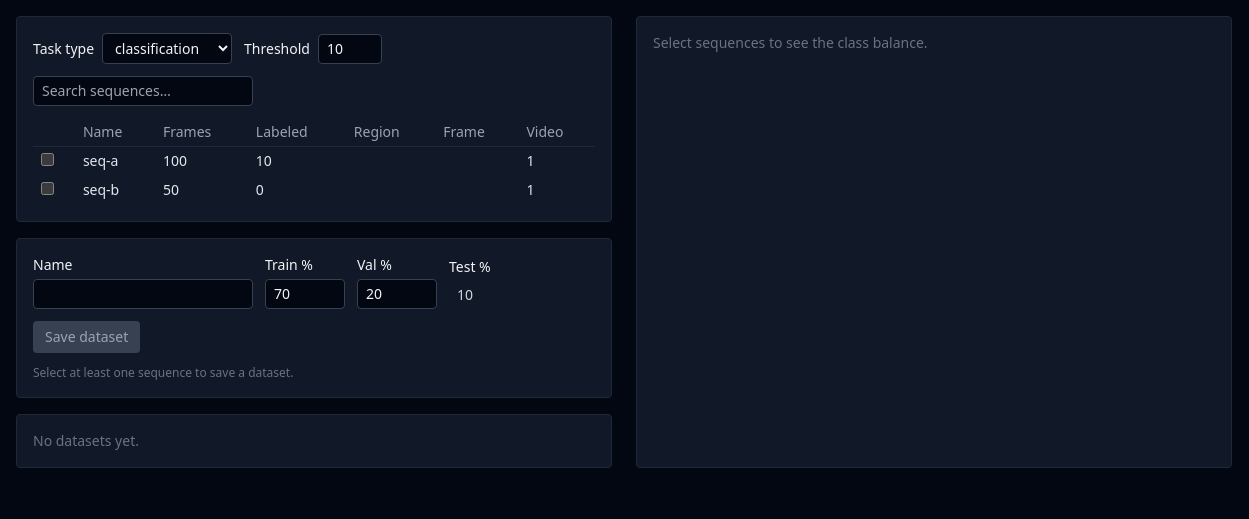
Test: DatasetsPage › surfaces the server's reason when saving a dataset fails
Click the checkbox named "seq-a".
click(48, 160)  # box [41,153,54,166]
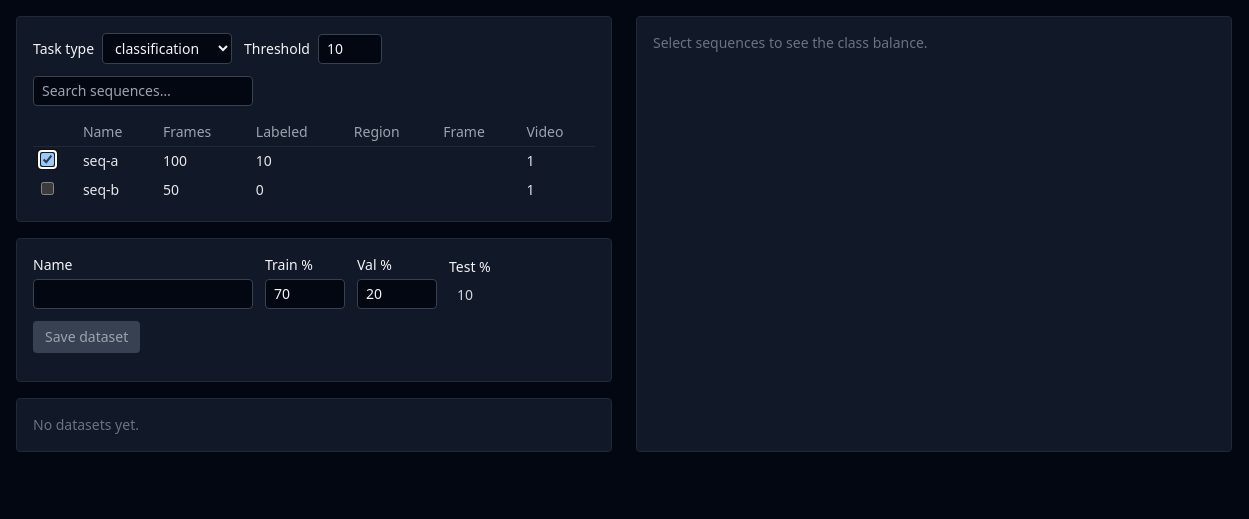
Type "duplicate" into the field labelled "Name".
click(143, 294); type("duplicate")  # box [33,279,253,309]
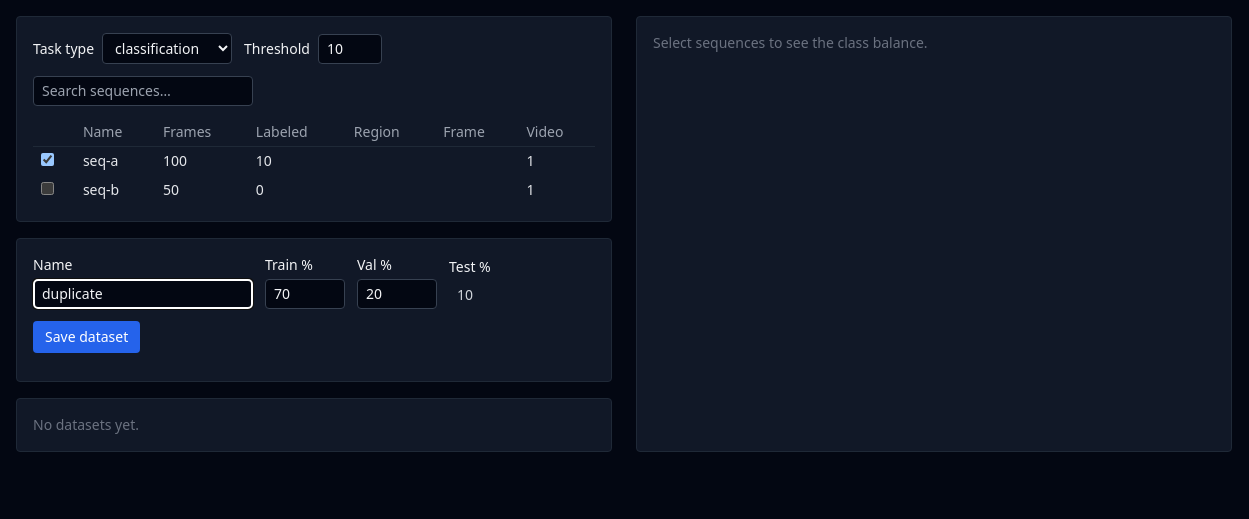
Click the button "Save dataset".
click(87, 337)  # box [33,321,140,353]
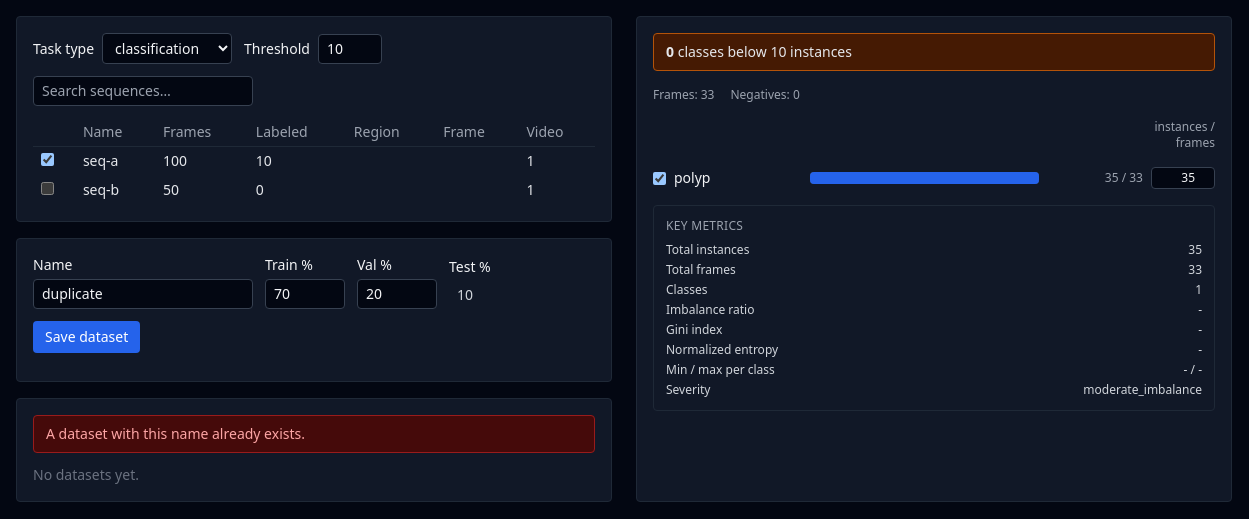
Check: the message shows "already exists", box [46,424,305,443]
